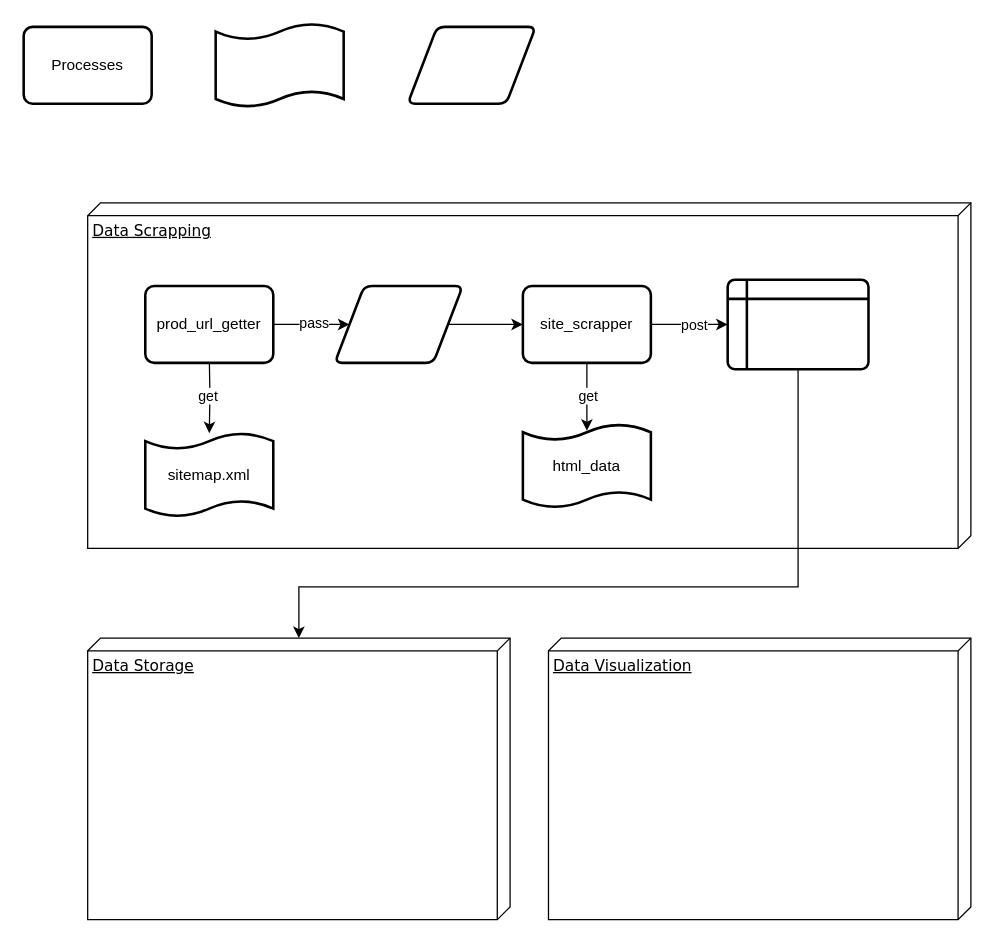
This 993x942 diagram has some shape labels left out. Here are the shapes that lost their labels. From the top down, the centre of each, then its label:
(x=279, y=65): External Sources
(x=471, y=64): Data
(x=398, y=324): prod_urls
(x=797, y=324): prod_data
